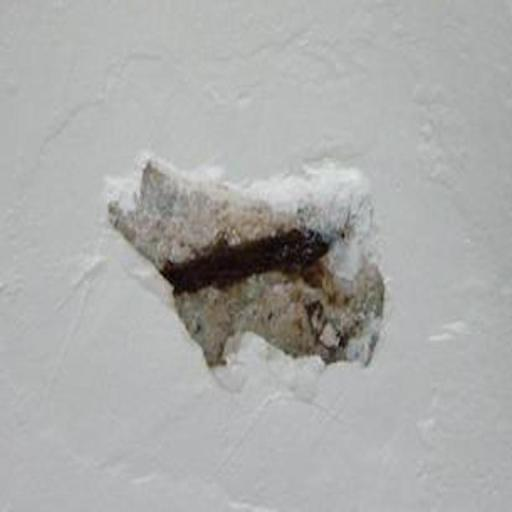spalling: (103, 149, 395, 388)
